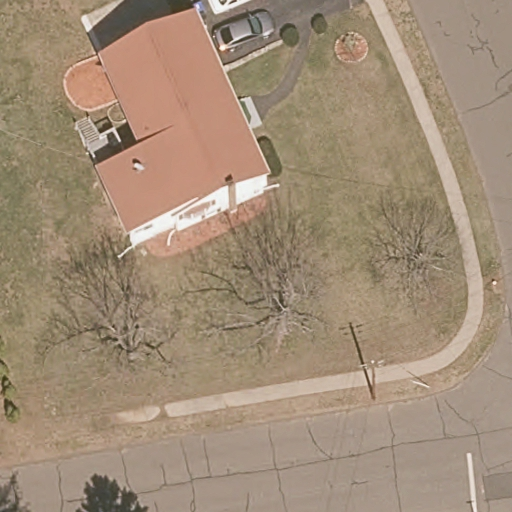DT: (356, 357, 384, 400)
